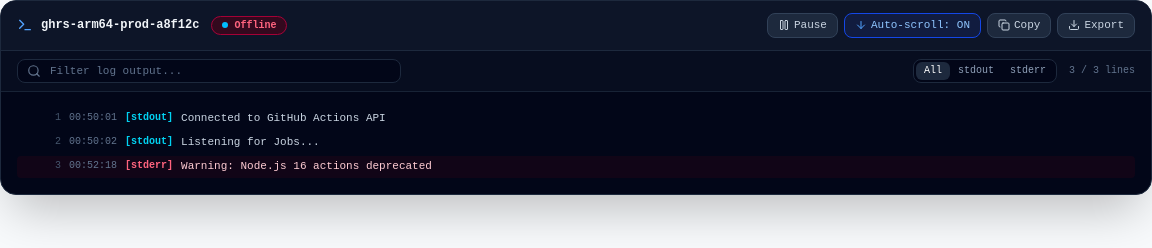
LogTerminal › toggles auto-scroll
What coordinates should you click on to do the following:
click the button "Auto-scroll: ON"
I would click on:
 (912, 25)
Its box is [844,13,981,38].
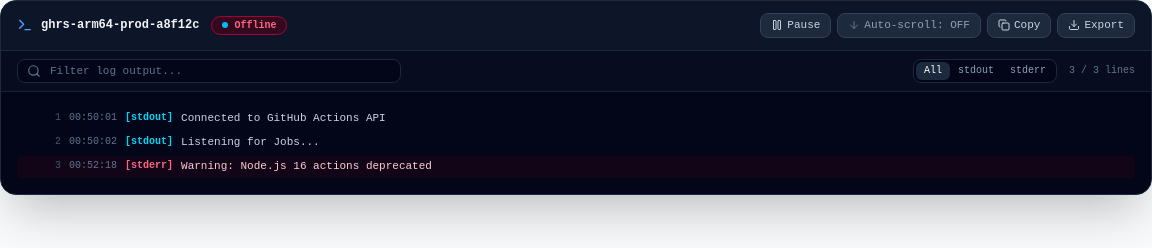
Expected: the button "Auto-scroll: OFF" is shown, [837,13,981,38]
